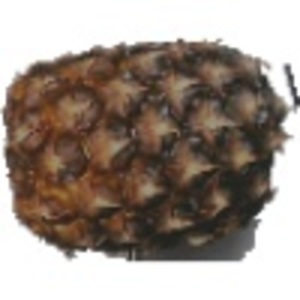abacaxi: (2, 26, 296, 252)
